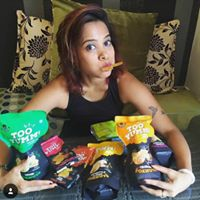plastic: (119, 115, 164, 179), (3, 114, 49, 176), (92, 127, 120, 191), (48, 136, 81, 174)
tooyumm: (10, 128, 43, 144), (125, 124, 151, 139), (96, 145, 113, 152), (46, 142, 59, 147)
